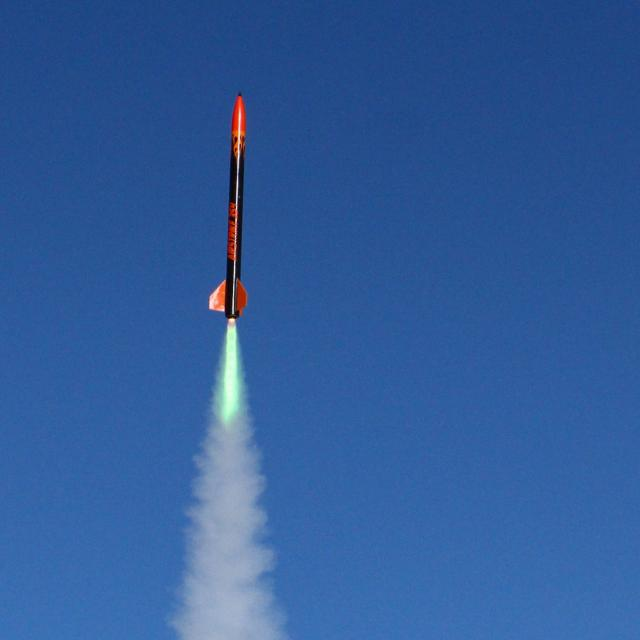Rocket: (206, 90, 252, 322)
